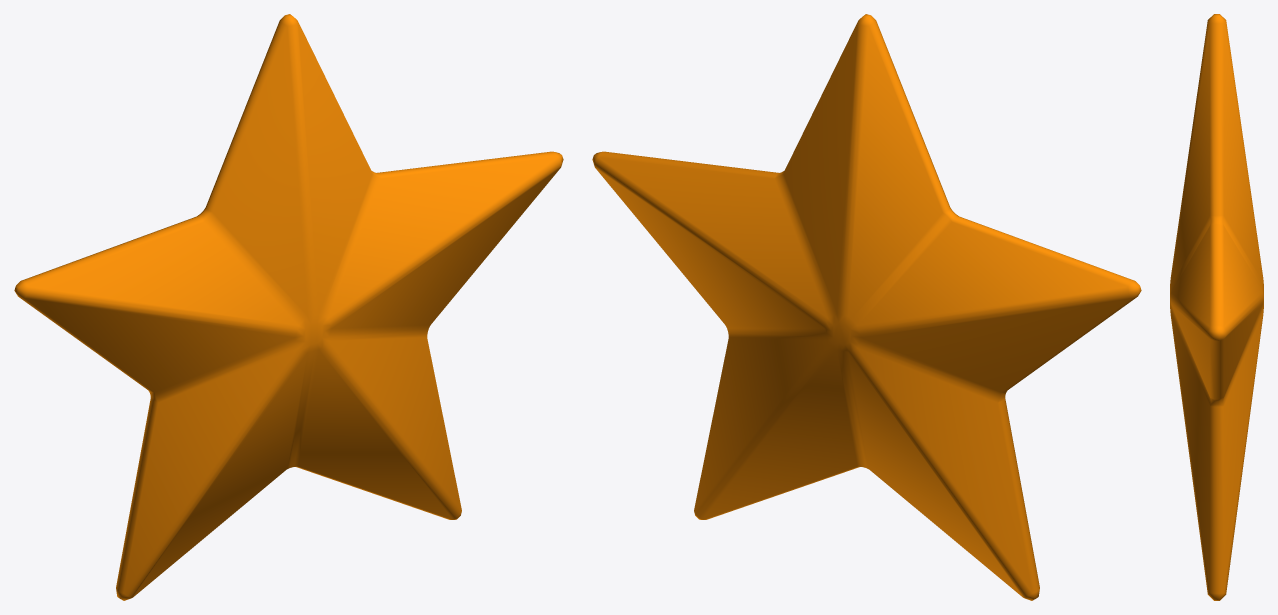
Rendered from star.glb.
3 renders of one model, left to right at view 1: azimuth 30°, elevation 25°; view 2: azimuth 150°, elevation 25°; view 3: azimuth 270°, elevation 25°, orthographic. The views are drawn at different scales.
Visible parts, largest first — view 1: Star; view 2: Star; view 3: Star.
Part boxes in pixels (x1,y1,x2,y2): Star: (14, 14, 563, 600); Star: (592, 14, 1141, 600); Star: (1170, 14, 1263, 600).
Bounding box in the file's own units: 1.07 × 1.02 × 0.1703.
1 material, 1 textured.
